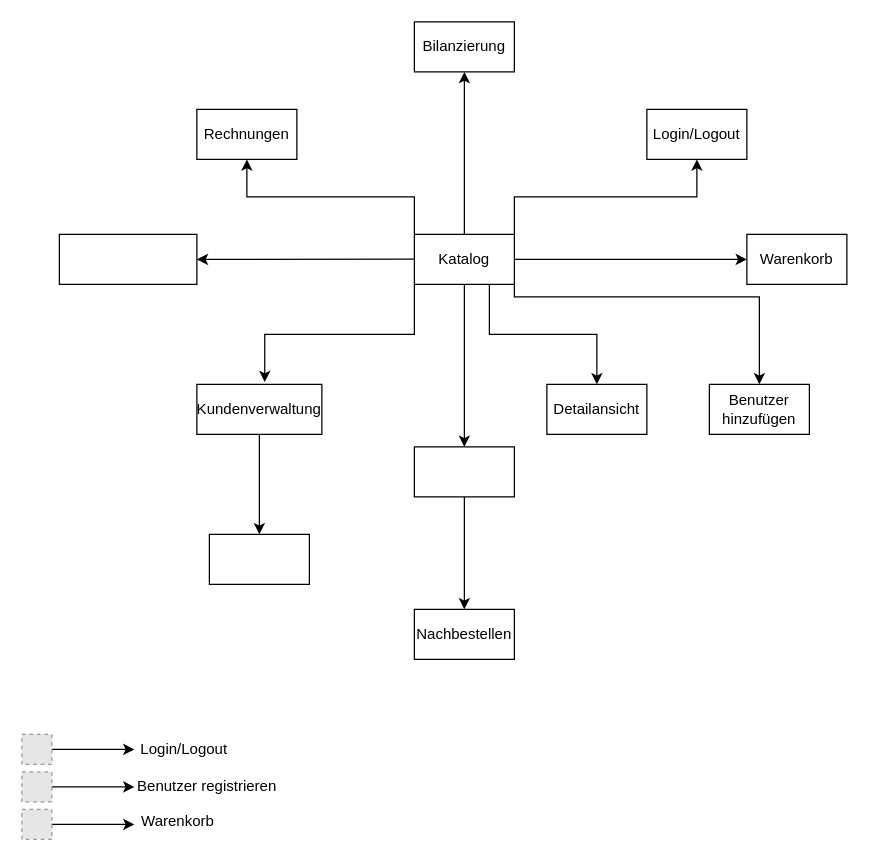
Image size: 869x861. Some labels were removed from this diagram. Grey dashed boxes stand in for pictures. The shapes that lost their labels are listed below. From the top down, each one's centre as x and y in pixels, then its label:
(x=127, y=258): Benutzerverwaltung
(x=463, y=471): Lager
(x=258, y=558): Kunden hinzufügen
